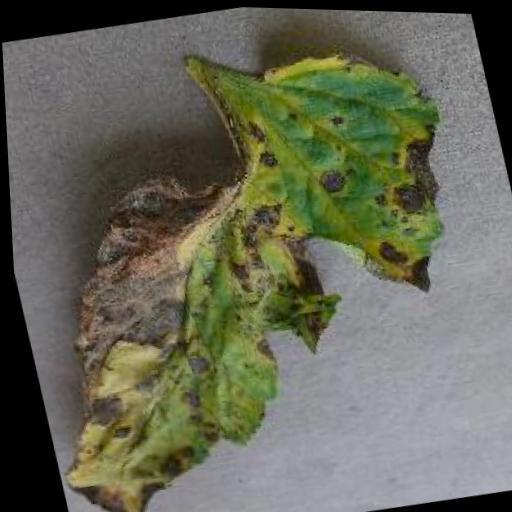Early Blight: (1, 14, 512, 512)
